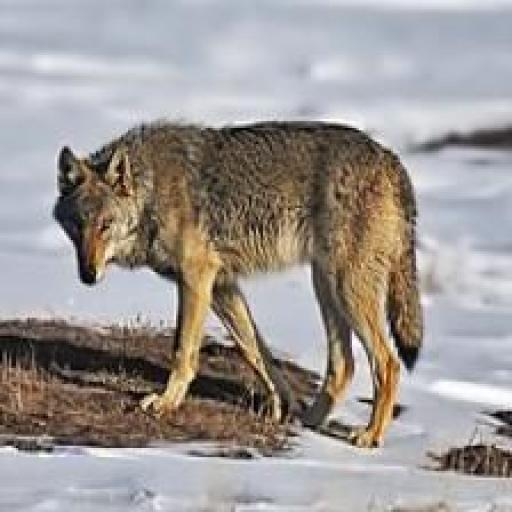wolf: (55, 110, 431, 481)
